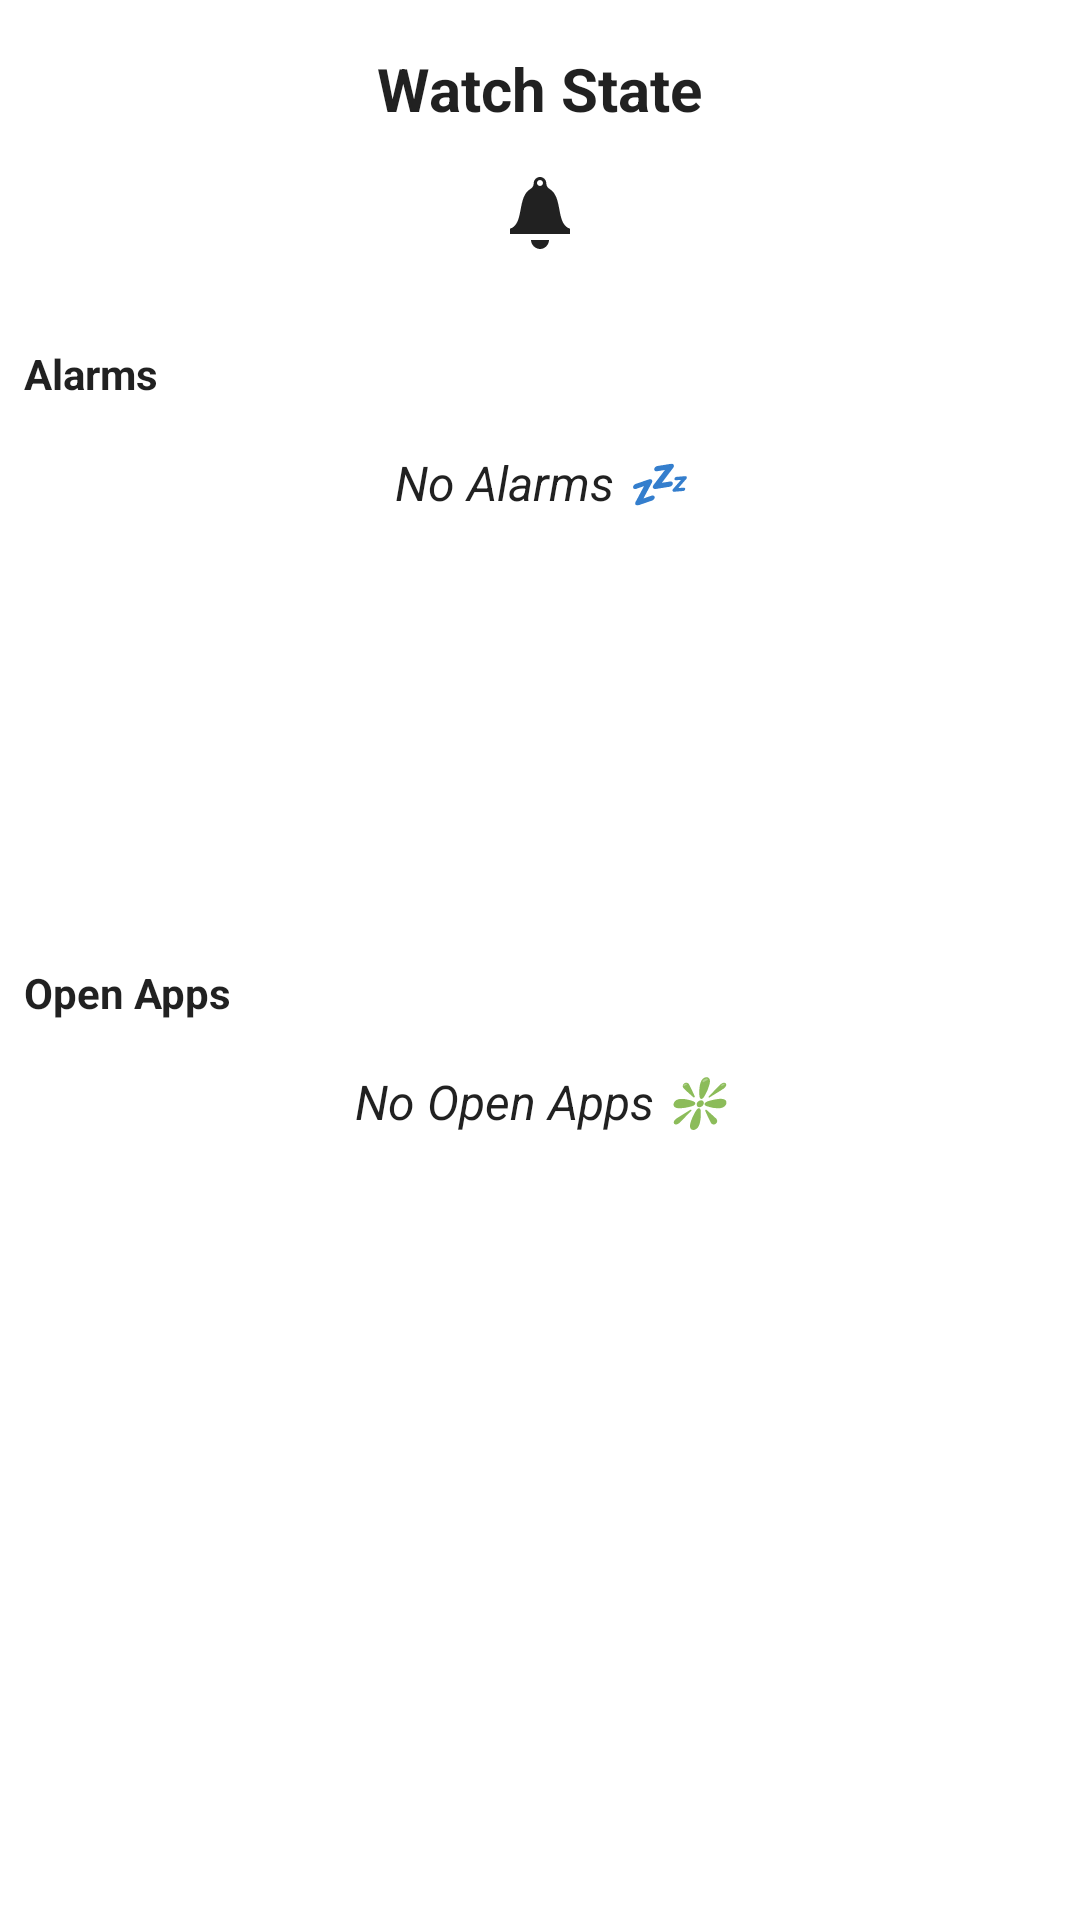

Icon click points for this 1080px x 1920px phone screenshot, format (x=x, y=y):
bell ringing: (x=540, y=213)
